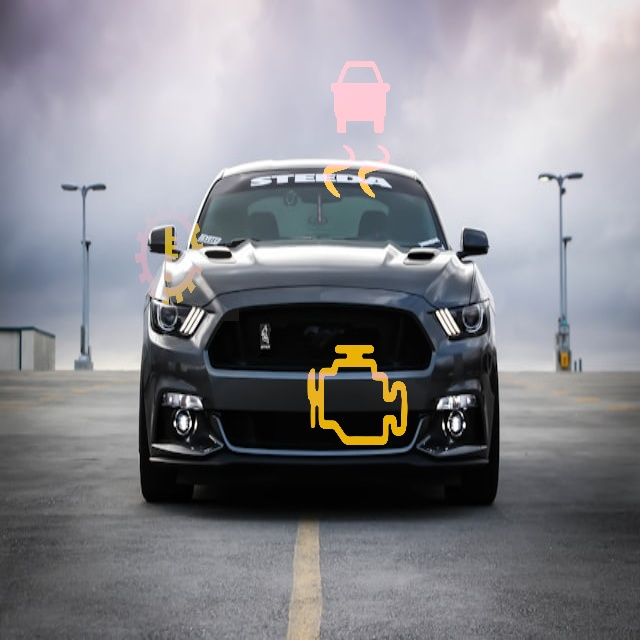symbol: (271, 42, 446, 217), (274, 308, 440, 474), (99, 181, 239, 321)
